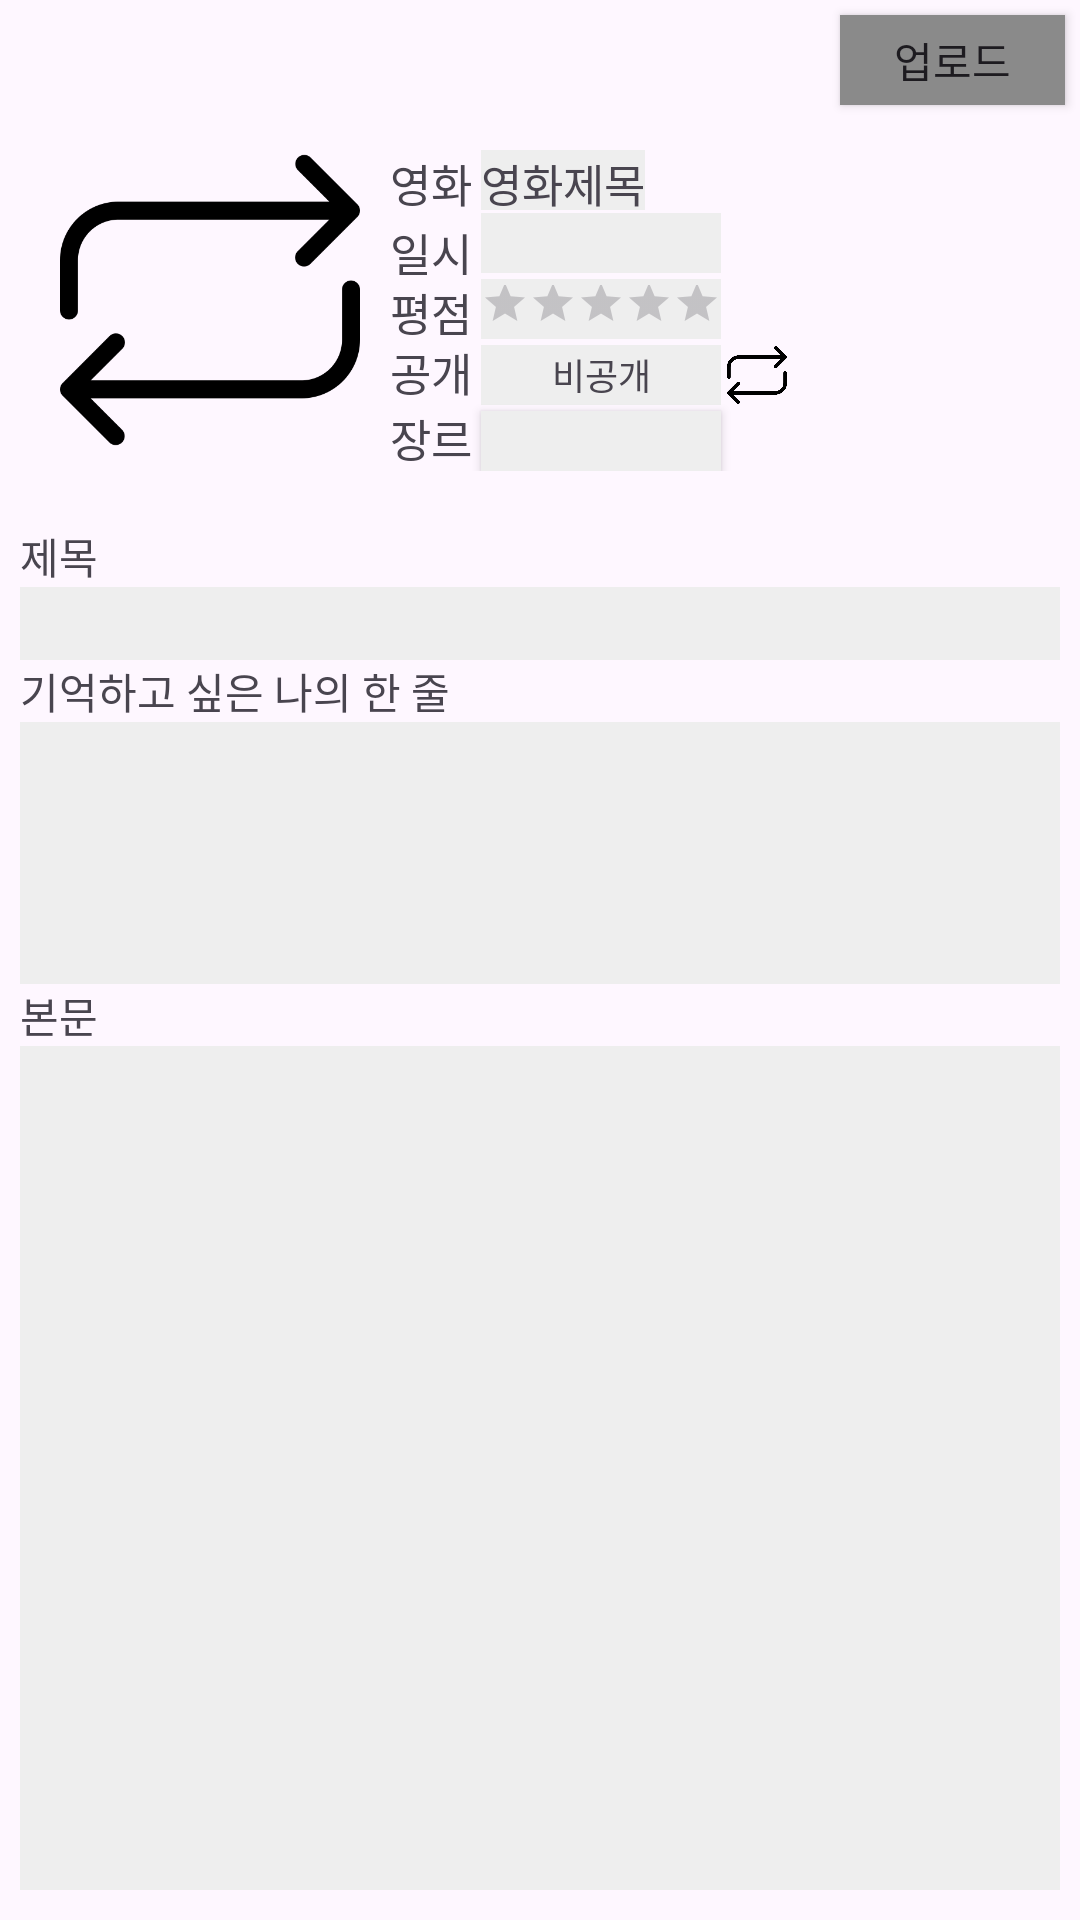

Named icons in this screenshot (1080x1920) and their bounding boxes, (x1, y1, x2, y2):
changeicon: (60, 154, 360, 446), (727, 346, 787, 404)
